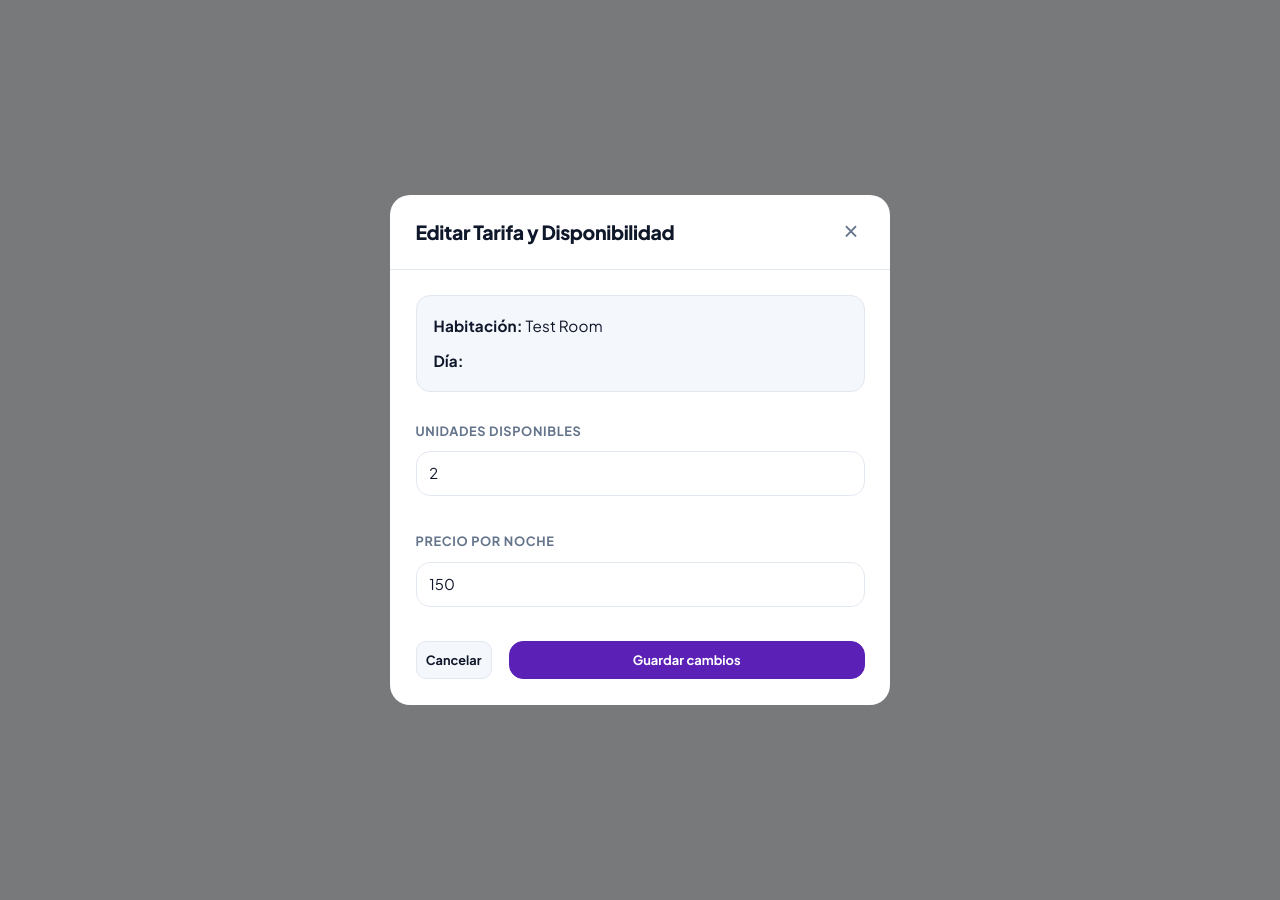
Test: HotelRoomRateModal › handles save error
Click the button "Guardar cambios".
click(687, 660)  # box [509,641,864,679]
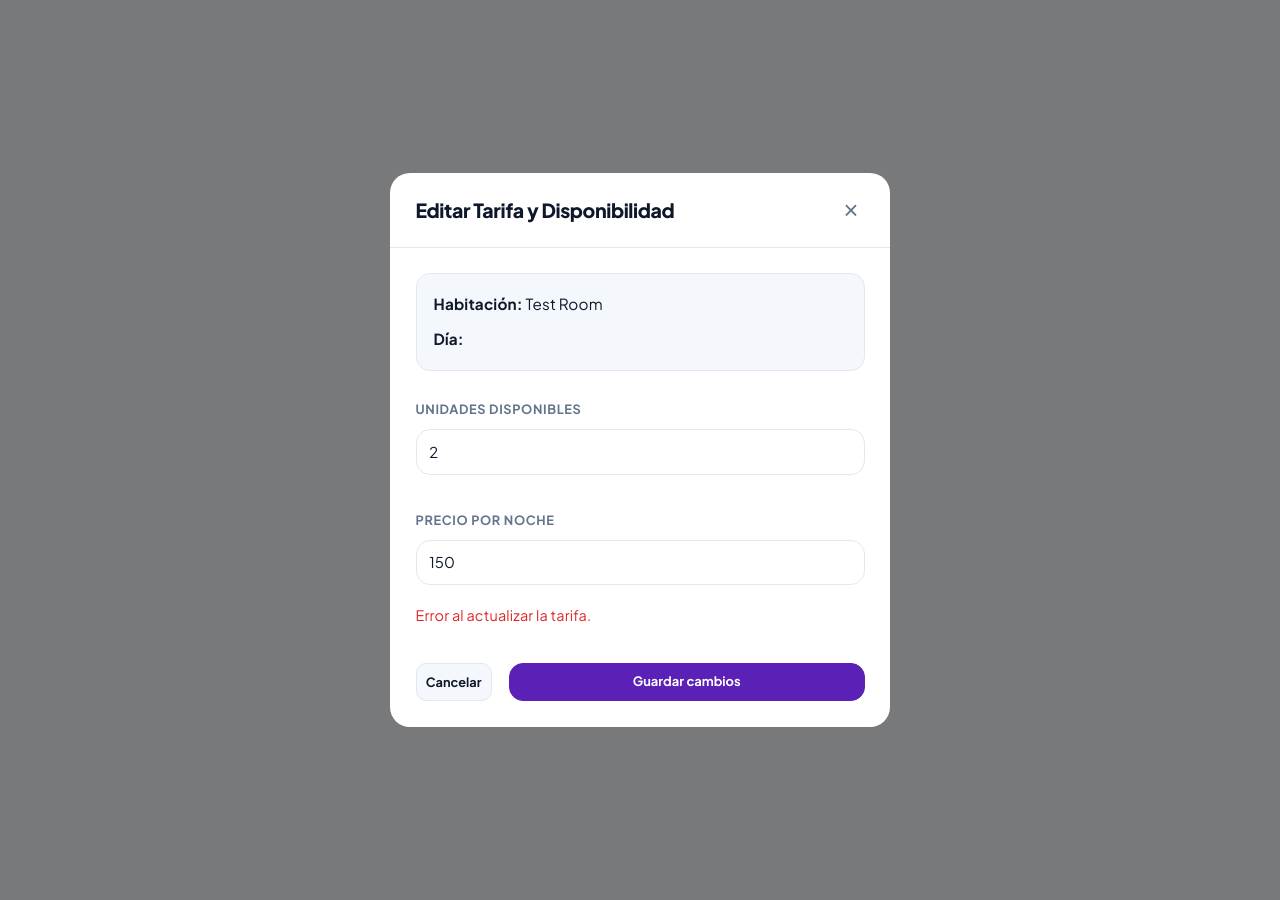
Check: the text "Error al actualizar la tarifa." is shown, box [416,606,591,624]
